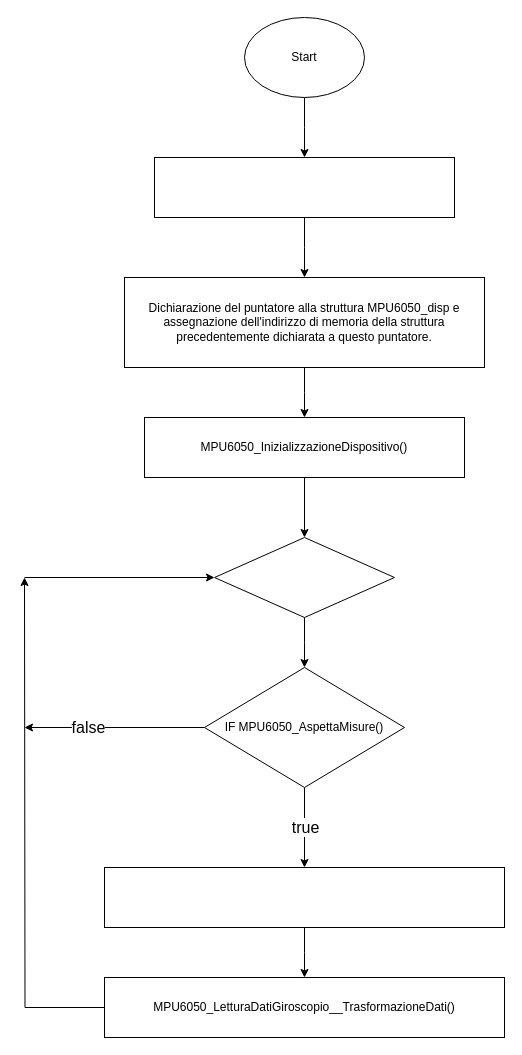
This 522x1055 diagram has some shape labels left out. Each missing label, with the centre of its shape:
Dichiarazione della struttura MPU6050_dispositivo_t.: the point at 304,187
MPU6050_LetturaDatoGrezzoAccelerometro__TrasformazioneDati(): the point at 304,897
while(1): the point at 304,577
